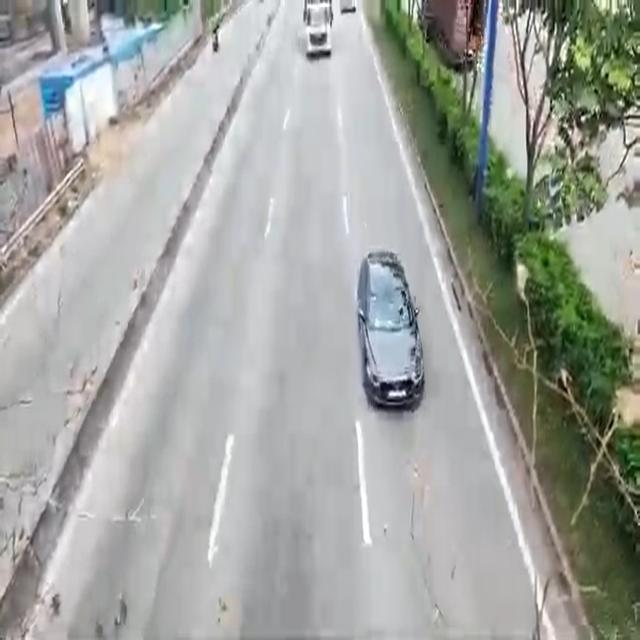car: (357, 254, 428, 412)
truck: (303, 0, 334, 60)
